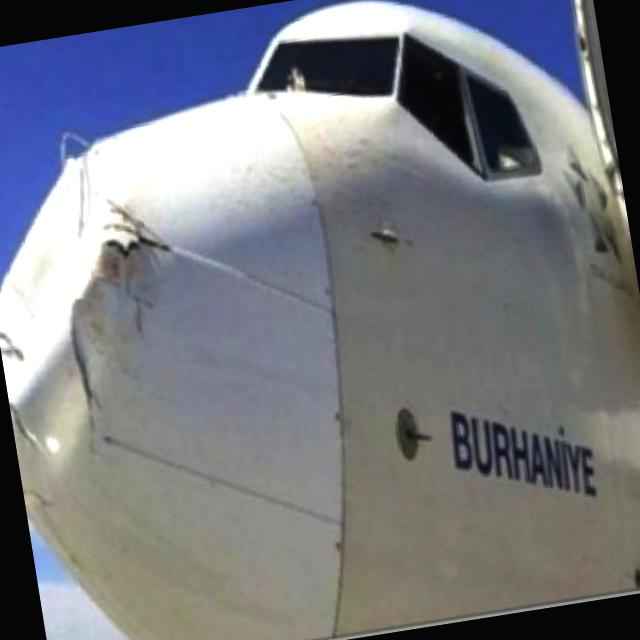dent: (0, 129, 195, 412)
